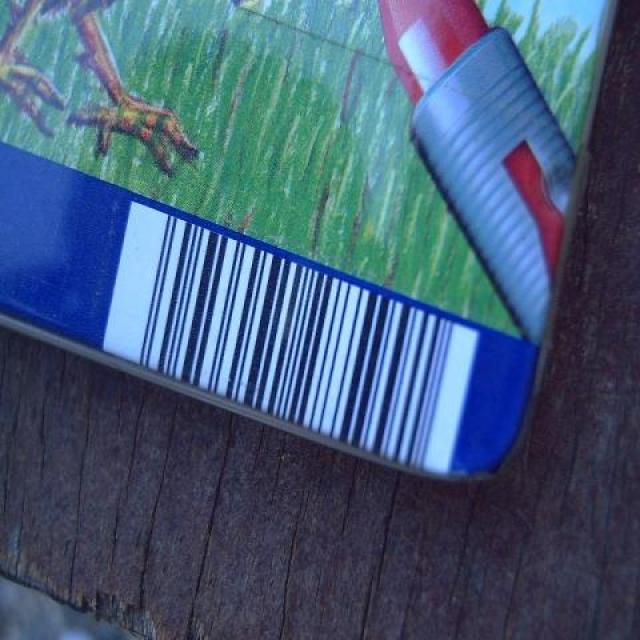Barcode: (96, 197, 483, 488)
